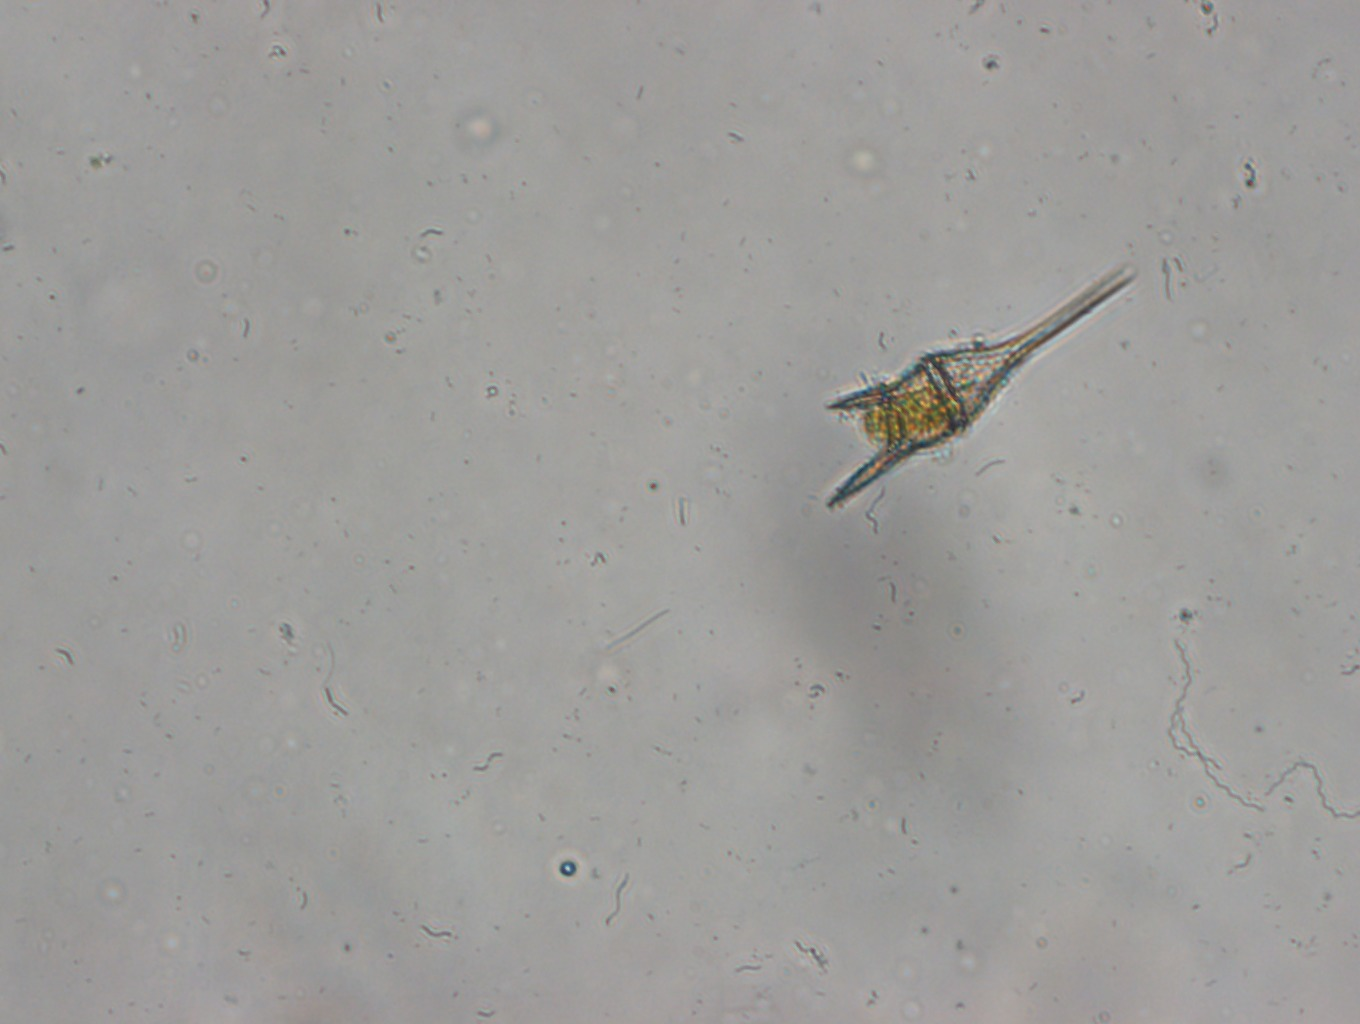ceratium furca: (810, 245, 1136, 514)
